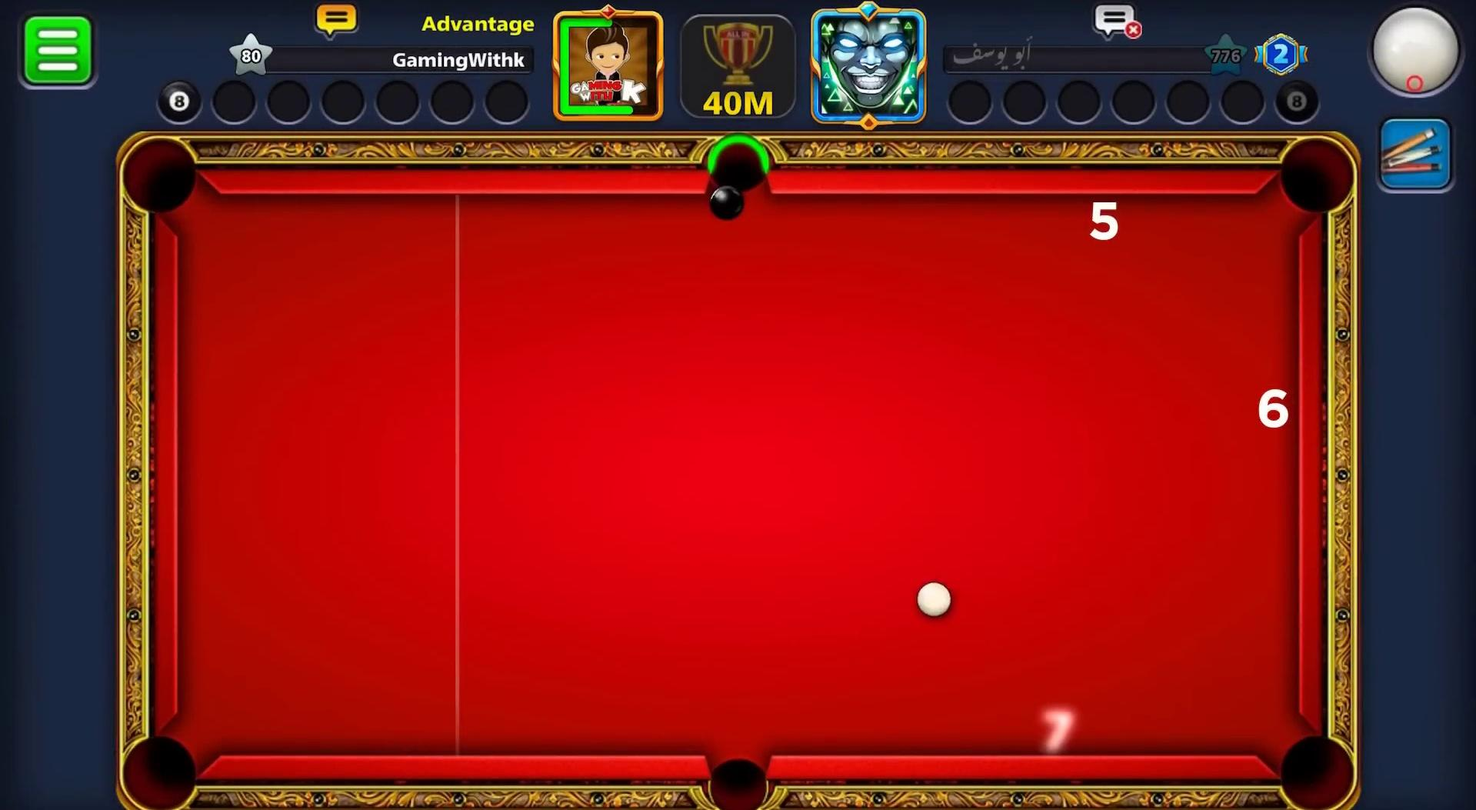Ball: (706, 180, 742, 222)
Hole: (694, 738, 780, 809), (1277, 732, 1356, 808), (122, 135, 199, 212), (703, 128, 771, 215), (1278, 138, 1355, 213), (122, 733, 198, 808)
Play_Area: (176, 193, 1299, 759)
Spin: (1362, 0, 1474, 109)
White: (912, 578, 955, 624)
